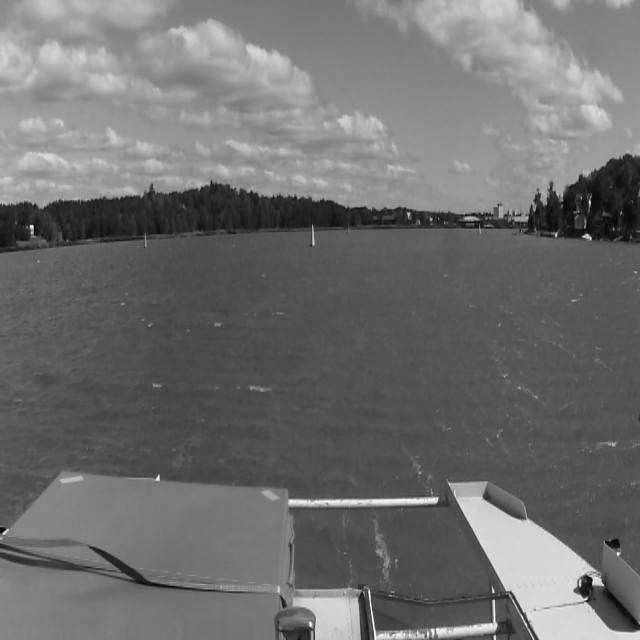buoy: (306, 220, 320, 248), (310, 223, 316, 248), (144, 231, 148, 249), (478, 223, 481, 235)
